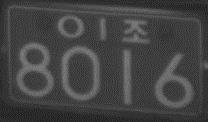0: (60, 44, 101, 102), (57, 13, 86, 39)
1: (111, 49, 143, 106), (91, 17, 114, 42)
6: (152, 52, 195, 109)
8: (14, 41, 54, 98)
조: (122, 18, 151, 44)
